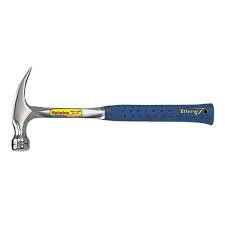hammer: (10, 65, 215, 152)
